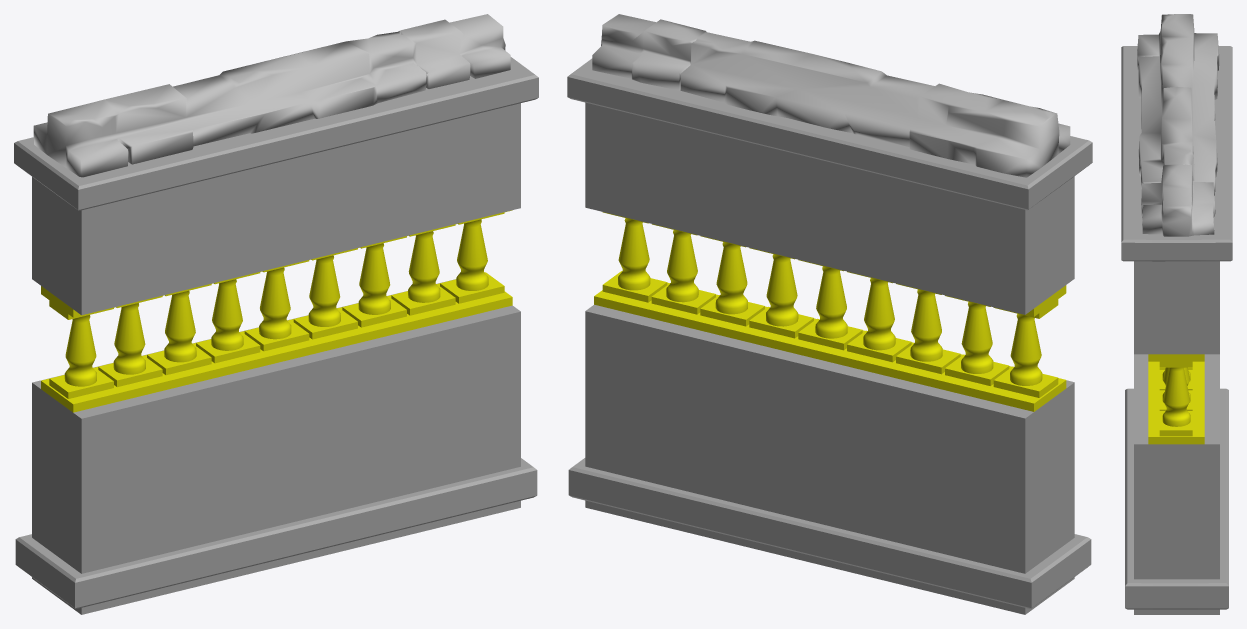
File: brick_wall2.fbx
3 views of the same model, side by side, from view 1: azimuth 30°, elevation 25°; view 2: azimuth 150°, elevation 25°; view 3: azimuth 270°, elevation 25° (orthographic). The views are drawn at different scales.
Parts seen in each view (by area): view 1: PM3D_Cube3D3; view 2: PM3D_Cube3D3; view 3: PM3D_Cube3D3.
Boxes of the visible parts, x1,y1,x2,y2 form: PM3D_Cube3D3: [14, 14, 538, 614]; PM3D_Cube3D3: [567, 14, 1092, 614]; PM3D_Cube3D3: [1121, 14, 1232, 614].
Size of the model in its own units: 1.44 by 1.42 by 0.3452.
